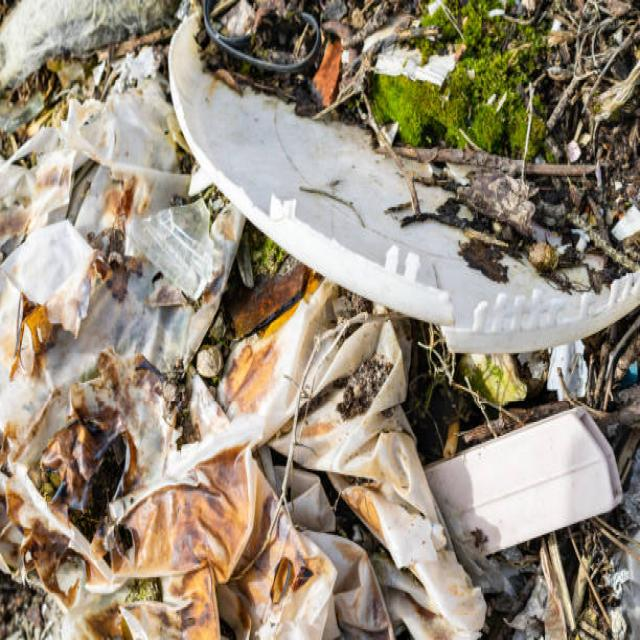plastic: (39, 136, 640, 365)
